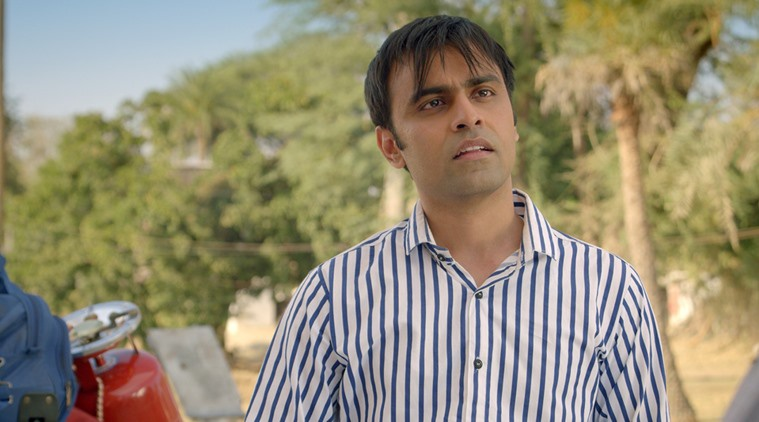bad: (397, 67, 526, 196)
